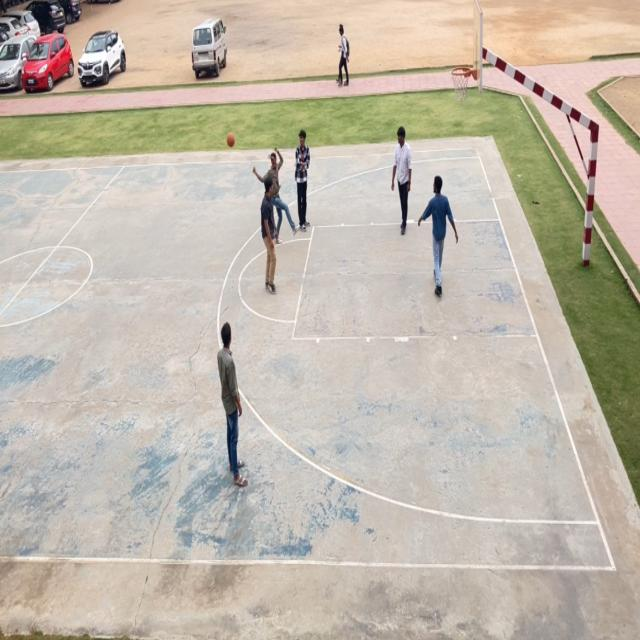basketball: (227, 132, 236, 148)
hoop: (450, 65, 472, 100)
